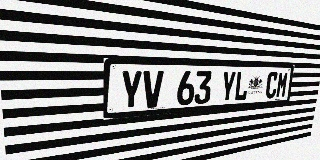3: (194, 71, 212, 104)
6: (177, 71, 196, 106)
C: (265, 72, 279, 99)
L: (234, 71, 249, 101)
M: (275, 72, 289, 98)
V: (142, 70, 164, 108)
Y: (120, 70, 143, 110), (220, 71, 236, 102)
